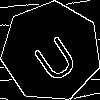U: (26, 27, 81, 85)
